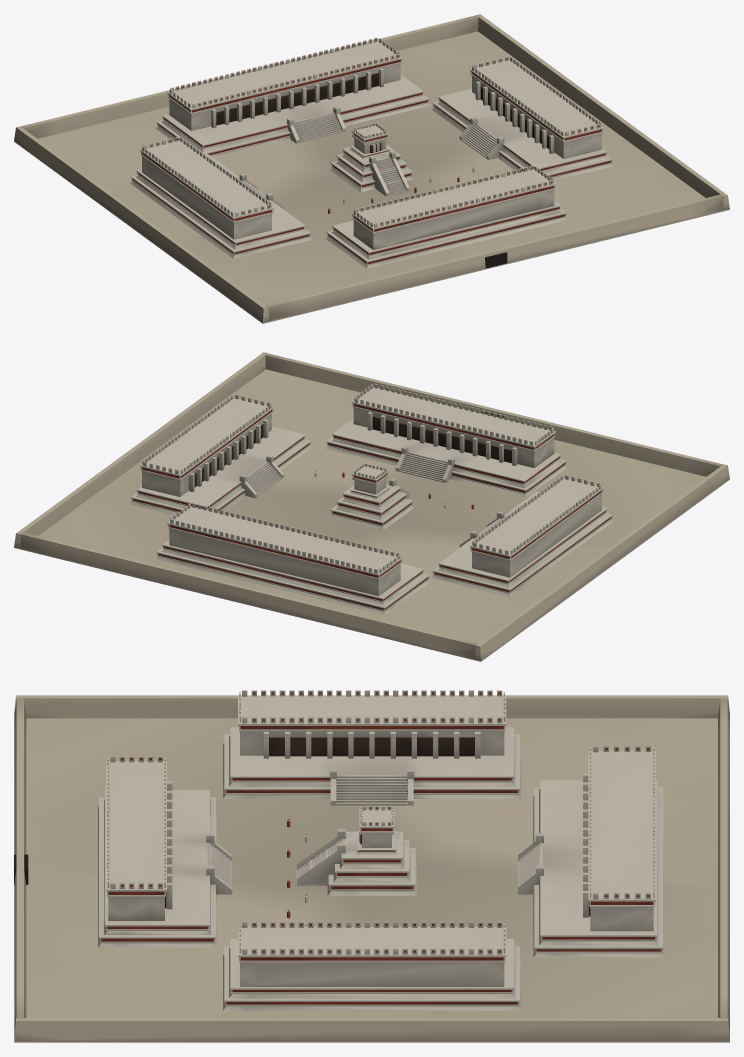
Rendered from xalla.glb.
3 views of the same model, one above another, from view 1: azimuth 30°, elevation 25°; view 2: azimuth 150°, elevation 25°; view 3: azimuth 270°, elevation 25° (orthographic). The views are drawn at different scales.
Visible parts, largest first — view 1: p0_wall, p2_halls, p1_platforms; view 2: p0_wall, p2_halls, p1_platforms; view 3: p0_wall, p2_halls, p1_platforms.
Part boxes in pixels (x1,y1,x2,y2): p0_wall: (14, 14, 729, 323); p2_halls: (140, 37, 603, 249); p1_platforms: (130, 74, 613, 268); p0_wall: (14, 352, 729, 661); p2_halls: (140, 383, 603, 596); p1_platforms: (130, 418, 613, 614); p0_wall: (14, 695, 729, 1042); p2_halls: (106, 690, 655, 986); p1_platforms: (98, 727, 664, 1010).
Size of the model in its own units: 130 by 11.98 by 120.
